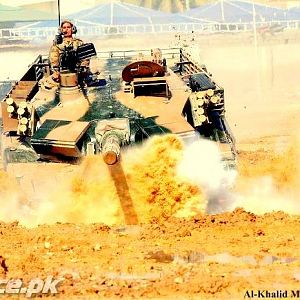Battle Tank: (2, 48, 241, 173)
